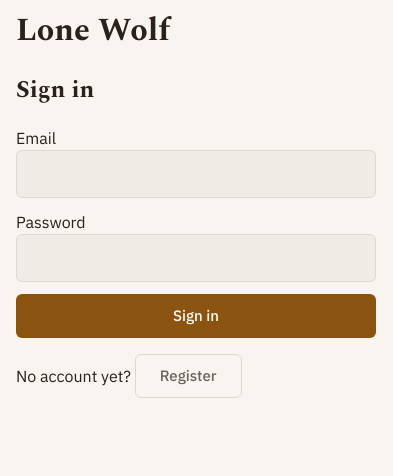
Scenario: AuthGate › shows a credentials error, not the expiry message, on a wrong password
Type "someone@example.test" into the field labelled "Email". click: {"x": 196, "y": 174}
box: [16, 150, 376, 198]
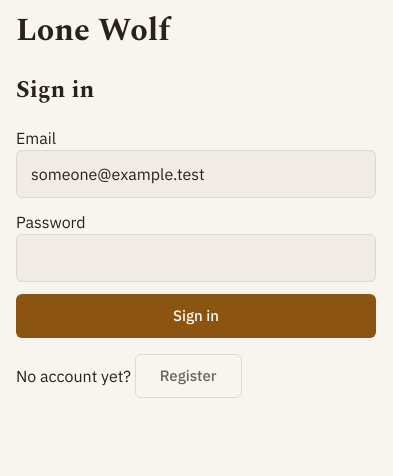
Type "wrong-passphrase" into the password field labelled "Password". click: {"x": 196, "y": 258}
box: [16, 234, 376, 282]
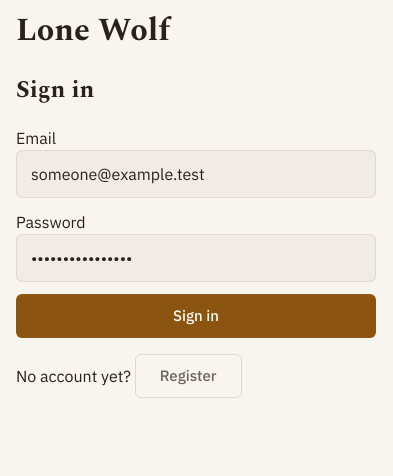
Click the button "Sign in". click: {"x": 196, "y": 316}
box: [16, 294, 376, 338]
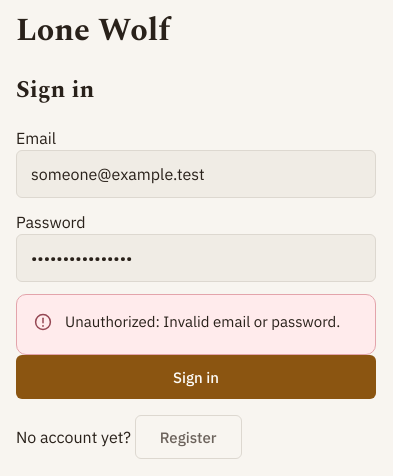
Expected: the message does not show "session expired", [16, 294, 376, 355]
Expected: the message shows "Invalid email or password", [65, 312, 340, 331]
